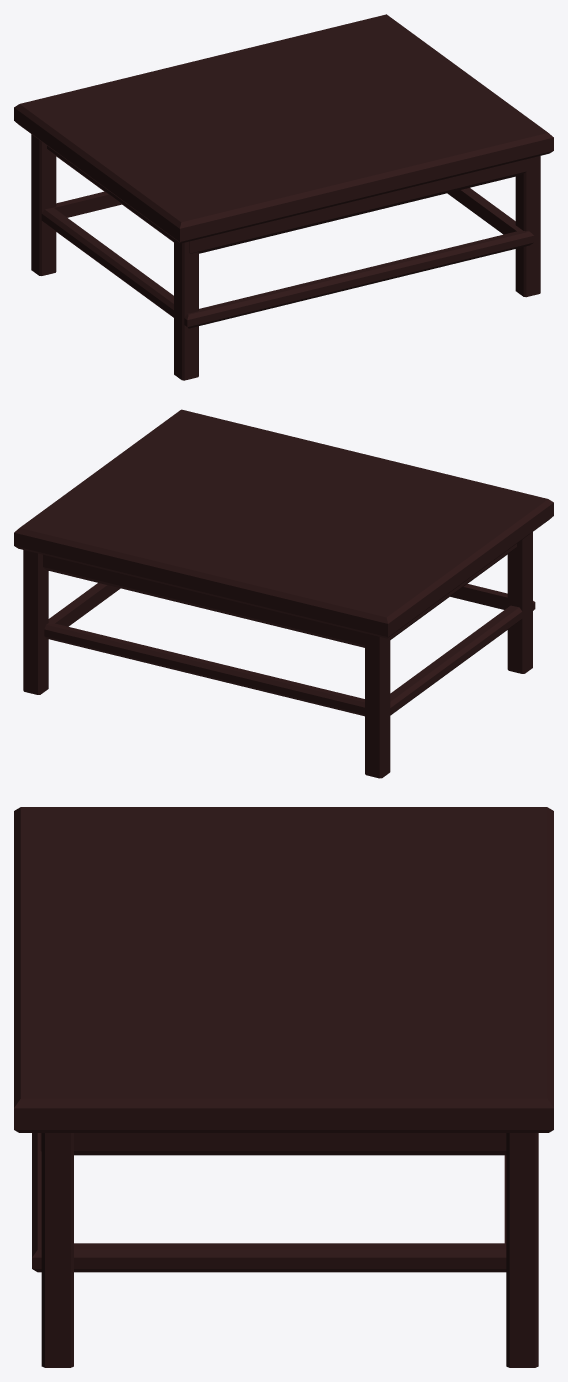
File: Container_Table.fbx
3 views of the same model, one above another, from view 1: azimuth 30°, elevation 25°; view 2: azimuth 150°, elevation 25°; view 3: azimuth 270°, elevation 25° (orthographic). The views are drawn at different scales.
Visible parts, largest first — view 1: pasted__pCube85, pasted__pCube77, pasted__pCube102, pasted__pCube101, pasted__pCube103; view 2: pasted__pCube85, pasted__pCube77, pasted__pCube101, pasted__pCube88, pasted__pCube102; view 3: pasted__pCube85, pasted__pCube77, pasted__pCube103, pasted__pCube88.
Part boxes in pixels (bbox=[...]): pasted__pCube85: bbox=[14, 14, 553, 253]; pasted__pCube77: bbox=[41, 188, 534, 328]; pasted__pCube102: bbox=[174, 238, 198, 380]; pasted__pCube101: bbox=[31, 134, 56, 275]; pasted__pCube103: bbox=[515, 156, 540, 297]; pasted__pCube85: bbox=[14, 409, 553, 647]; pasted__pCube77: bbox=[44, 583, 535, 716]; pasted__pCube101: bbox=[365, 633, 390, 778]; pasted__pCube88: bbox=[23, 550, 48, 694]; pasted__pCube102: bbox=[507, 532, 532, 673]; pasted__pCube85: bbox=[14, 807, 553, 1155]; pasted__pCube77: bbox=[32, 1133, 506, 1272]; pasted__pCube103: bbox=[41, 1133, 73, 1367]; pasted__pCube88: bbox=[506, 1133, 538, 1367].
Size of the model in its own units: 1.96 by 0.8278 by 1.5.
